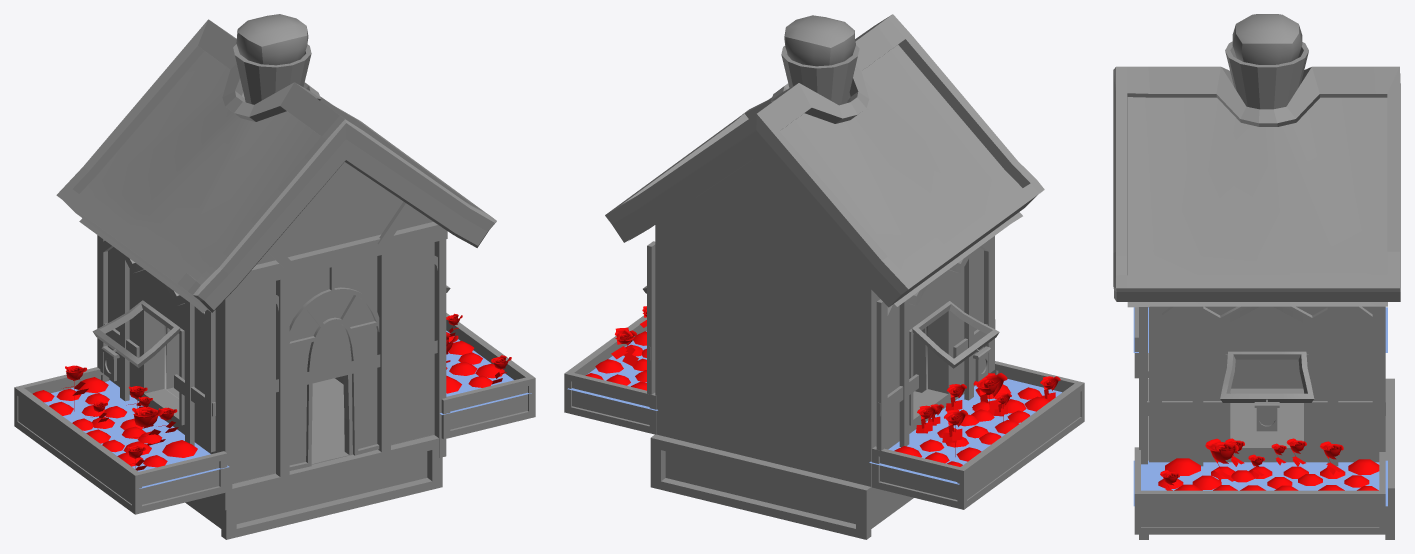
File: Oli_BirdHouse_Complete (4).fbx
3 renders of one model, left to right at view 1: azimuth 30°, elevation 25°; view 2: azimuth 150°, elevation 25°; view 3: azimuth 270°, elevation 25°, orthographic. The views are drawn at different scales.
Parts seen in each view (by area): view 1: Plane002, Rectangle009, Object136, Object086, Plane606, Object116, Plane615, Plane635, Plane385, Box131, Rectangle073, Shape007 (+7 smaller); view 2: Object156, Object136, Object086, Rectangle009, Plane002, Plane606, Object116, Plane615, Box131, Rectangle073, Plane635, Plane385 (+8 smaller); view 3: Object136, Object086, Plane002, Rectangle009, Object099, Plane385, Plane559, Plane566, Object135, Box131, Object001, Object154 (+6 smaller).
Part boxes in pixels (x1=…): Plane002: x1=108, y1=162, x2=434, y2=528; Rectangle009: x1=92, y1=201, x2=450, y2=539; Object136: x1=79, y1=51, x2=321, y2=280; Object086: x1=56, y1=19, x2=496, y2=312; Plane606: x1=14, y1=367, x2=227, y2=514; Object116: x1=18, y1=375, x2=219, y2=504; Plane615: x1=33, y1=377, x2=197, y2=467; Plane635: x1=44, y1=380, x2=229, y2=488; Plane385: x1=441, y1=313, x2=535, y2=439; Box131: x1=236, y1=14, x2=308, y2=65; Rectangle073: x1=97, y1=235, x2=215, y2=452; Shape007: x1=141, y1=310, x2=184, y2=425; Object156: x1=655, y1=156, x2=871, y2=524; Object136: x1=779, y1=45, x2=1022, y2=274; Object086: x1=605, y1=14, x2=1044, y2=307; Rectangle009: x1=643, y1=241, x2=999, y2=539; Plane002: x1=871, y1=247, x2=983, y2=528; Plane606: x1=872, y1=361, x2=1084, y2=509; Object116: x1=880, y1=371, x2=1080, y2=499; Plane615: x1=894, y1=384, x2=1049, y2=466; Box131: x1=784, y1=15, x2=855, y2=66; Rectangle073: x1=876, y1=236, x2=994, y2=450; Plane635: x1=869, y1=379, x2=1061, y2=484; Plane385: x1=564, y1=315, x2=656, y2=434; Object136: x1=1127, y1=97, x2=1387, y2=275; Object086: x1=1113, y1=66, x2=1400, y2=301; Plane002: x1=1149, y1=306, x2=1379, y2=462; Rectangle009: x1=1139, y1=306, x2=1394, y2=539; Object099: x1=1141, y1=500, x2=1379, y2=526; Plane385: x1=1134, y1=447, x2=1385, y2=534; Plane559: x1=1158, y1=458, x2=1379, y2=490; Plane566: x1=1133, y1=460, x2=1387, y2=506; Object135: x1=1225, y1=41, x2=1308, y2=109; Box131: x1=1232, y1=14, x2=1302, y2=64; Object001: x1=1230, y1=388, x2=1303, y2=437; Object154: x1=1231, y1=359, x2=1303, y2=388.
Bounding box in the file's own units: 79.43 × 84.41 × 47.46.
